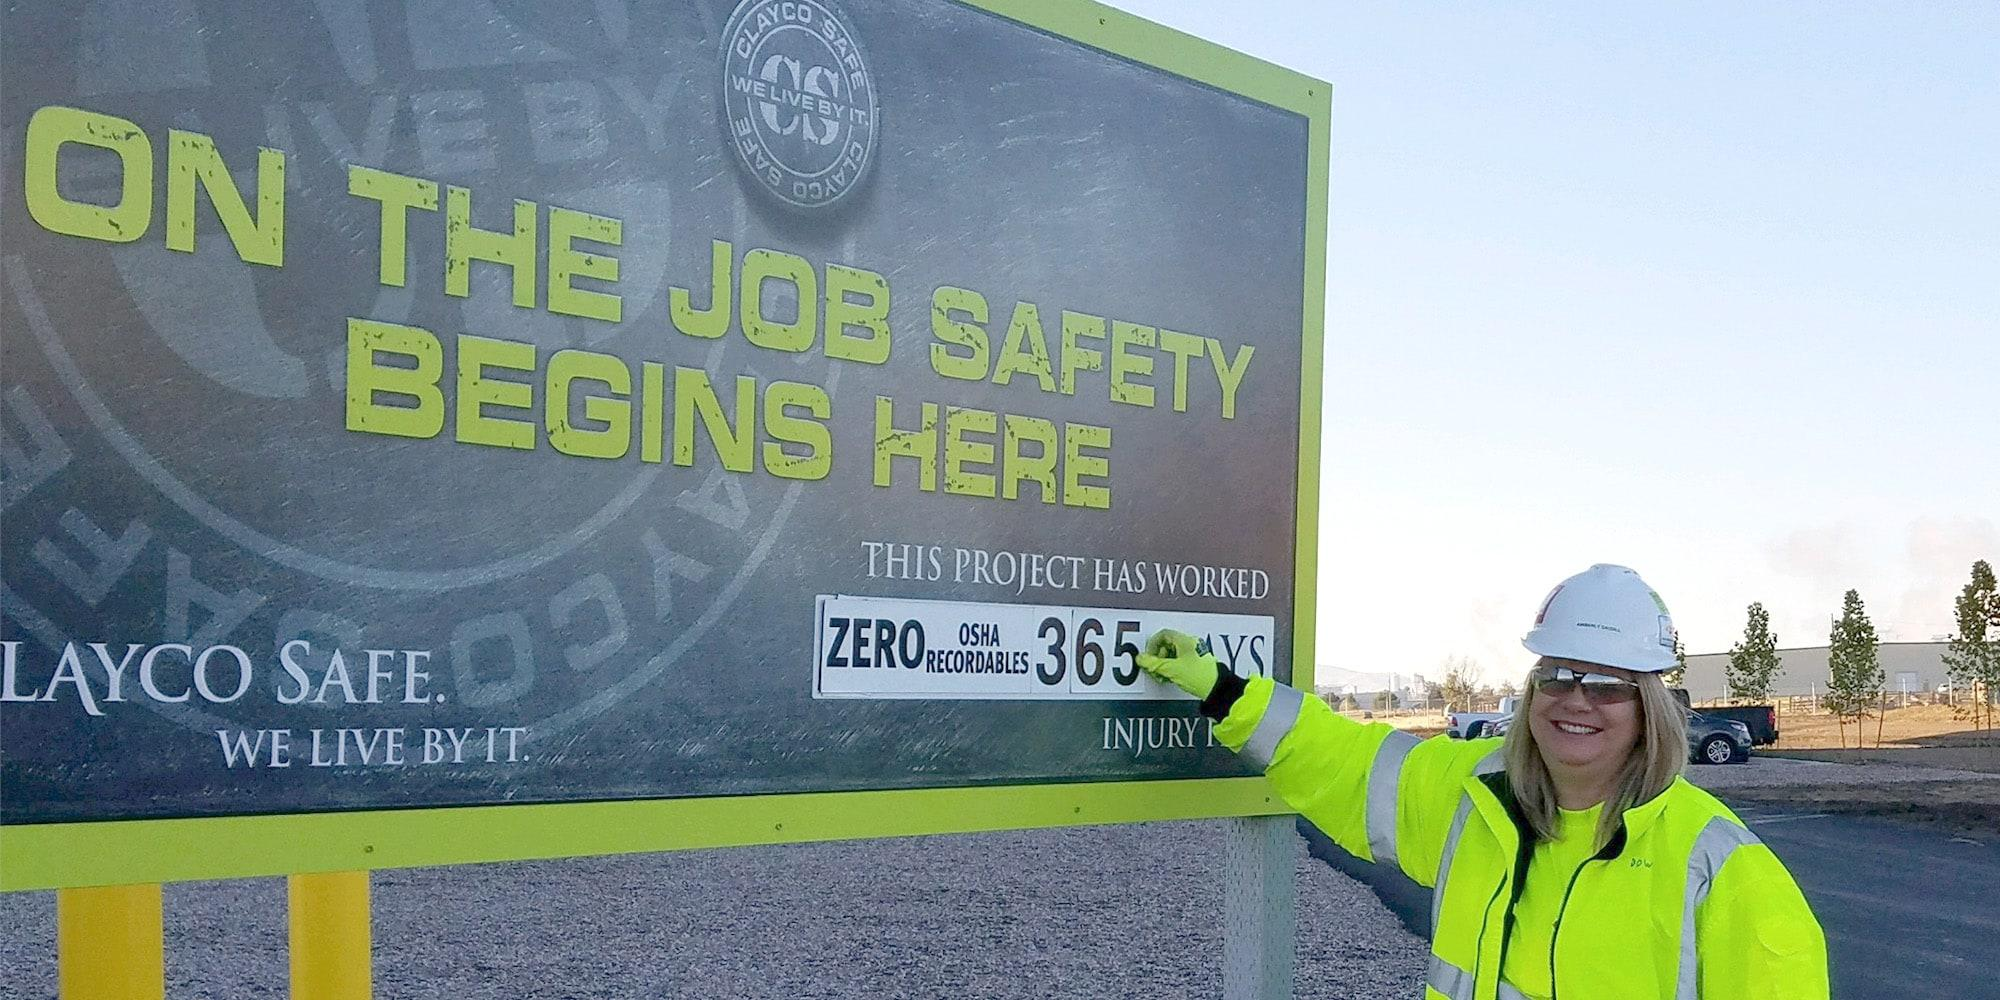helmet: (1522, 570, 1687, 680)
